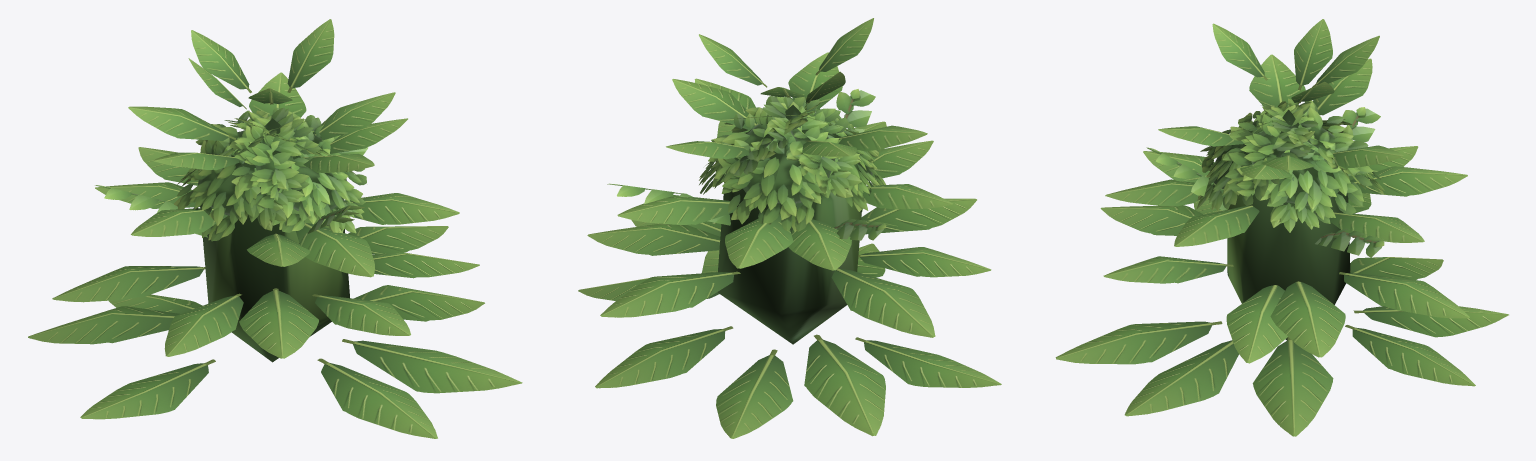
Rendered from shrub_b.glb.
3 views of the same model, side by side, from view 1: azimuth 30°, elevation 25°; view 2: azimuth 150°, elevation 25°; view 3: azimuth 270°, elevation 25° (orthographic). The views are drawn at different scales.
Visible parts, largest first — view 1: shrub_b_mesh; view 2: shrub_b_mesh; view 3: shrub_b_mesh.
Part boxes in pixels (bbox=[...]): shrub_b_mesh: bbox=[28, 19, 522, 438]; shrub_b_mesh: bbox=[578, 18, 1001, 438]; shrub_b_mesh: bbox=[1055, 19, 1508, 436].
Size of the model in its own units: 1.31 by 0.9013 by 1.3.
Materials: 1 (1 with a texture image).
